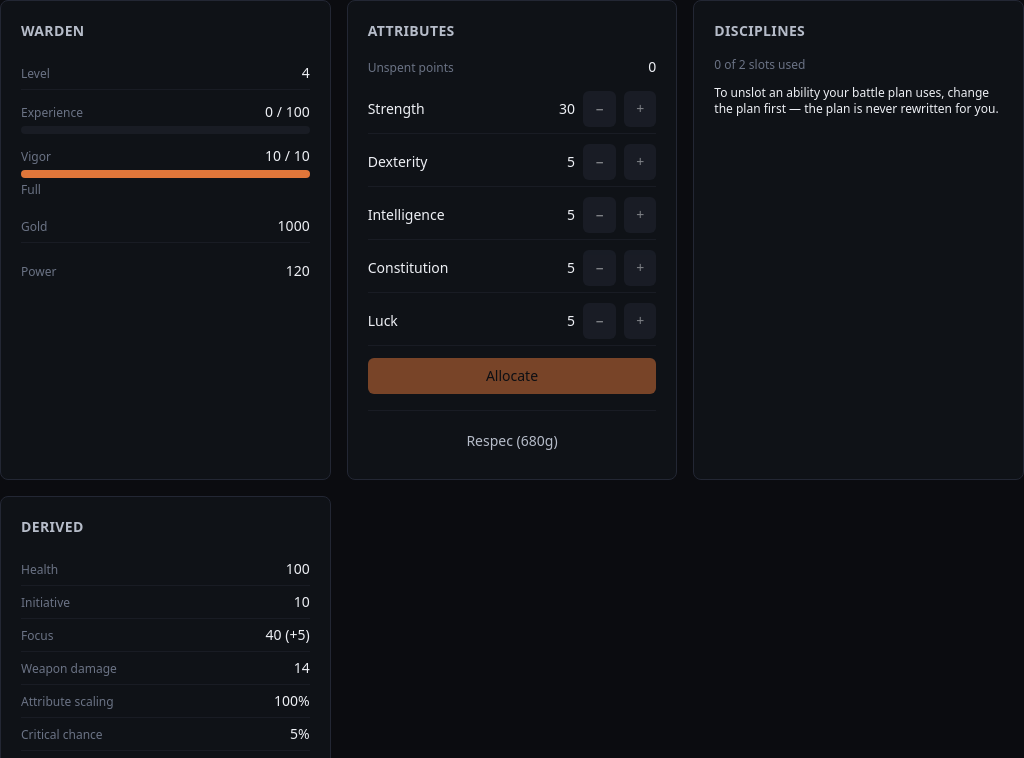
Test: respec › does nothing when the confirmation is dismissed
Step 1. Click the button "Respec (680g)" → [512, 441], box [368,423,656,459]
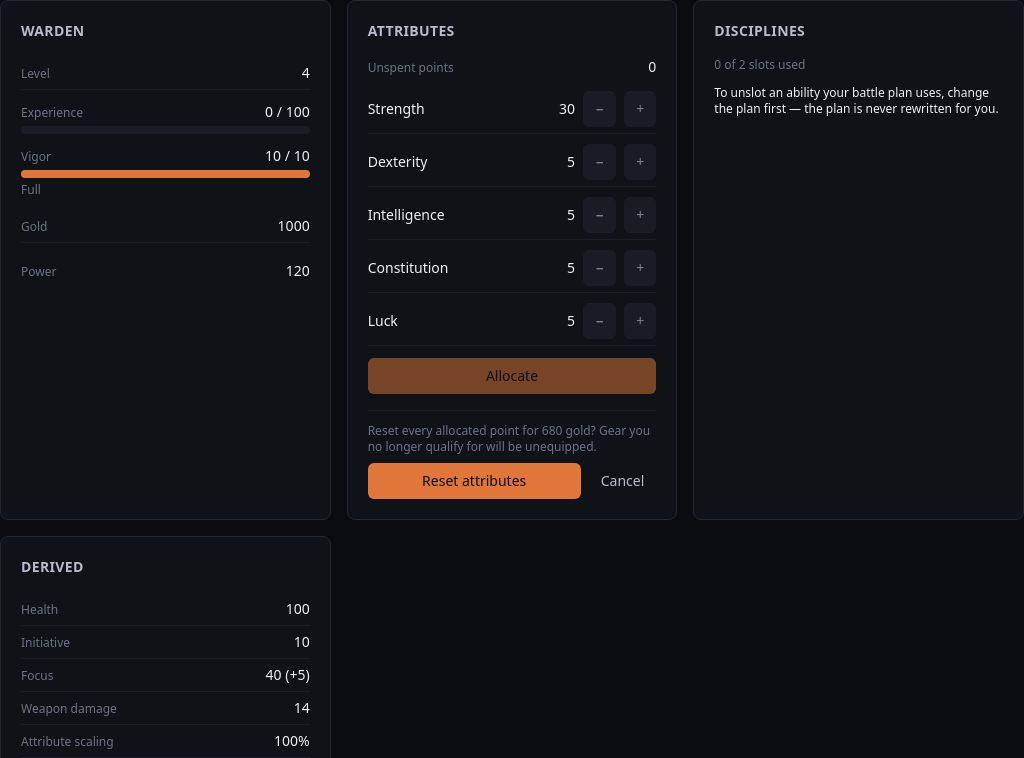
Step 2. Click the button "Cancel" → [622, 481], box [589,463,656,499]
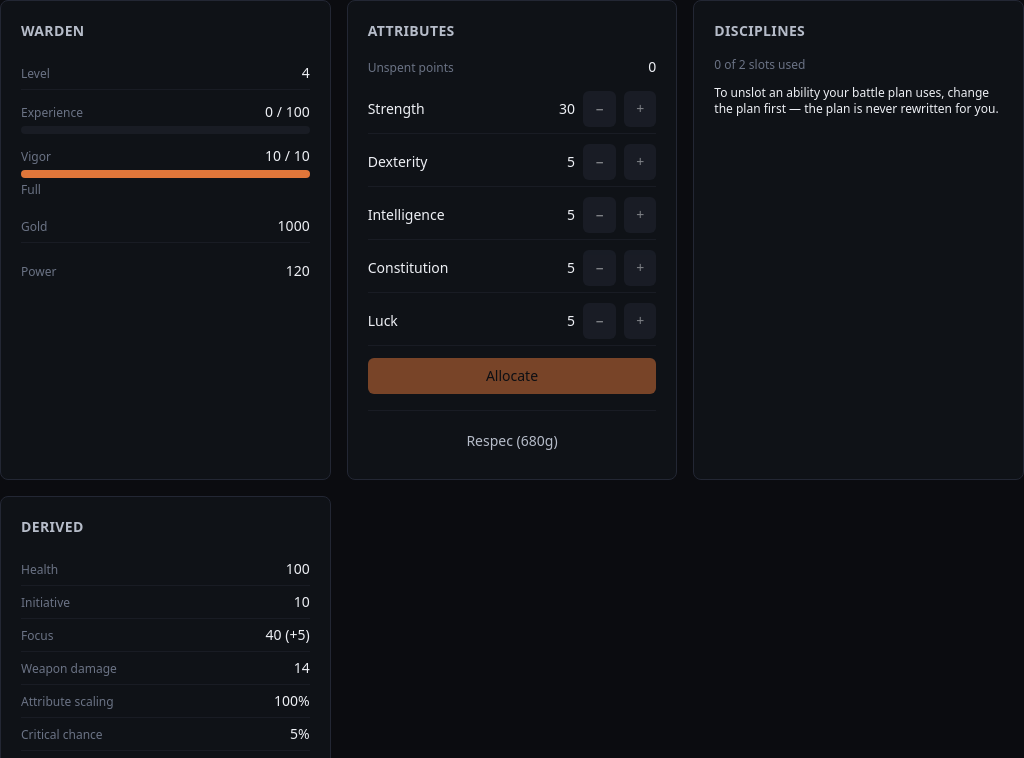
Result: the text "Reset every allocated point" is gone
